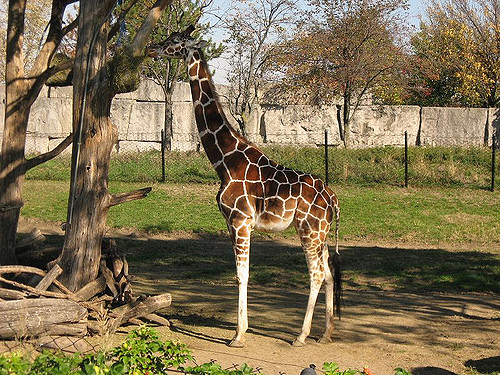giraffe: (148, 25, 355, 346)
